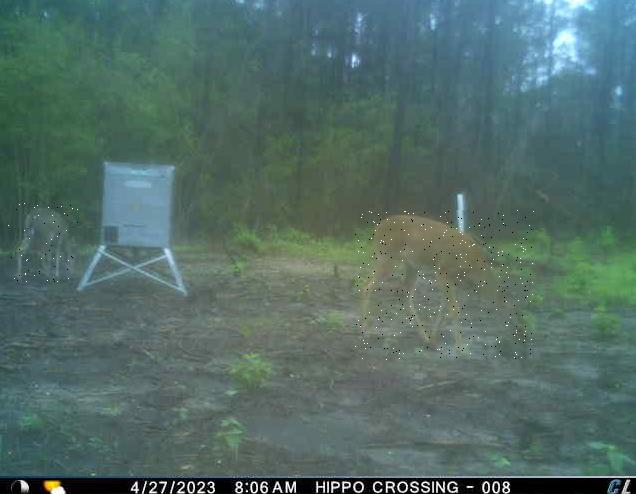Deer: (356, 210, 535, 360), (8, 203, 78, 285)
